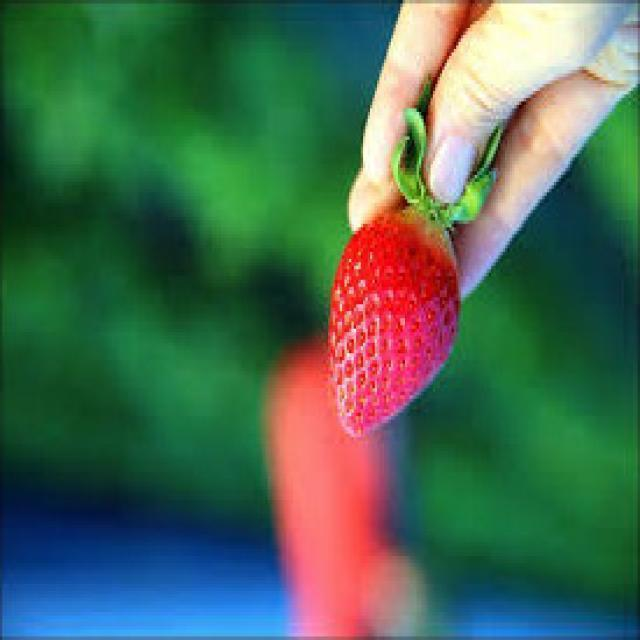Healthy Fruit: (327, 210, 453, 439)
